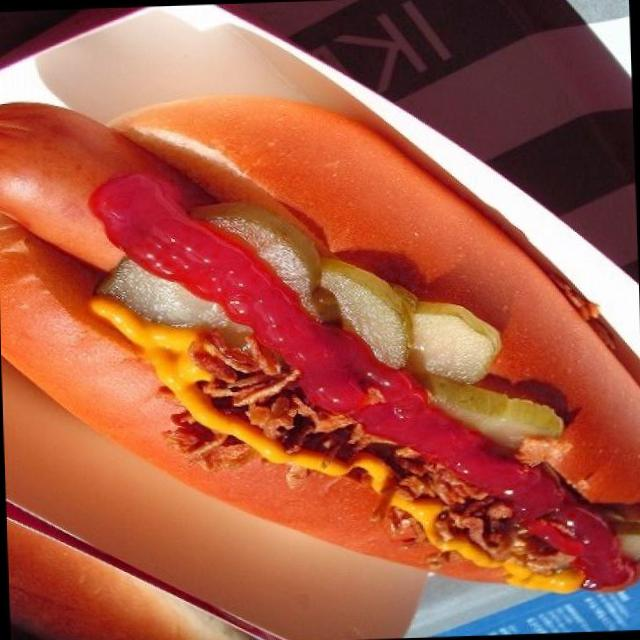Hot Dog: (0, 73, 640, 621)
